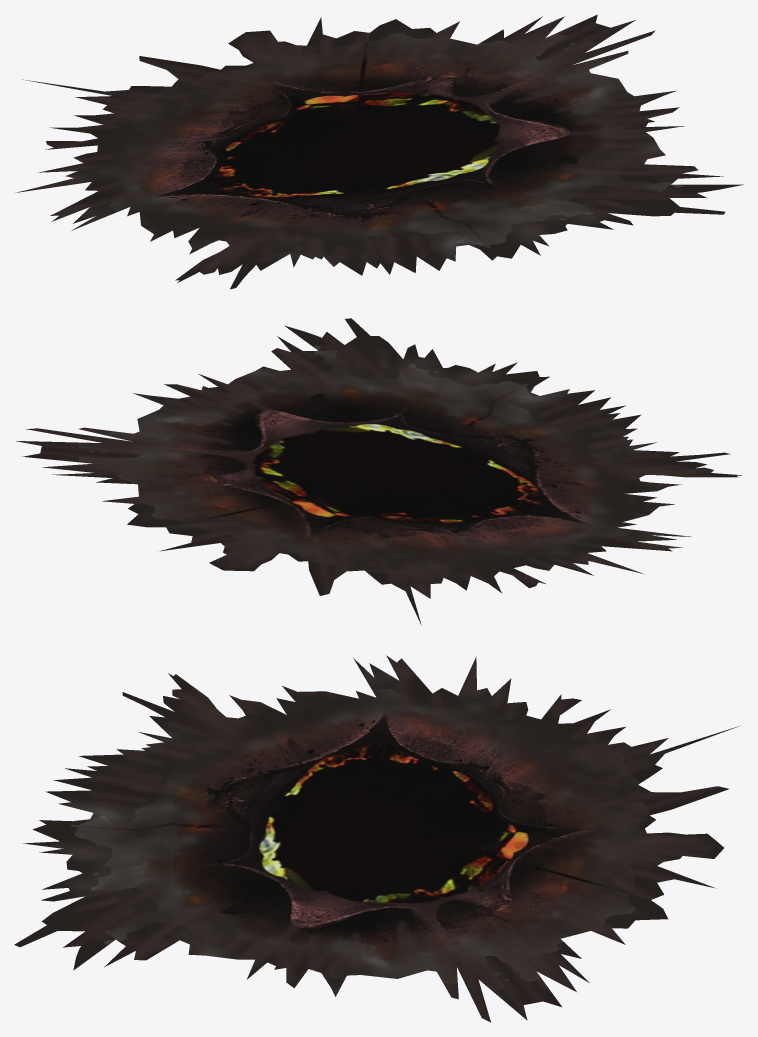
The model's file is dankeng.gltf.
3 renders of one model, top to bottom at view 1: azimuth 30°, elevation 25°; view 2: azimuth 150°, elevation 25°; view 3: azimuth 270°, elevation 25°, orthographic. The views are drawn at different scales.
Visible parts, largest first — view 1: dankeng; view 2: dankeng; view 3: dankeng.
Boxes of the visible parts, left/top/right/bottom form: dankeng: left=15, top=14, right=743, bottom=289; dankeng: left=16, top=318, right=741, bottom=625; dankeng: left=14, top=655, right=739, bottom=1022.
Bounding box in the file's own units: 67.13 × 0 × 56.31.
Materials: 1 (1 with a texture image).
